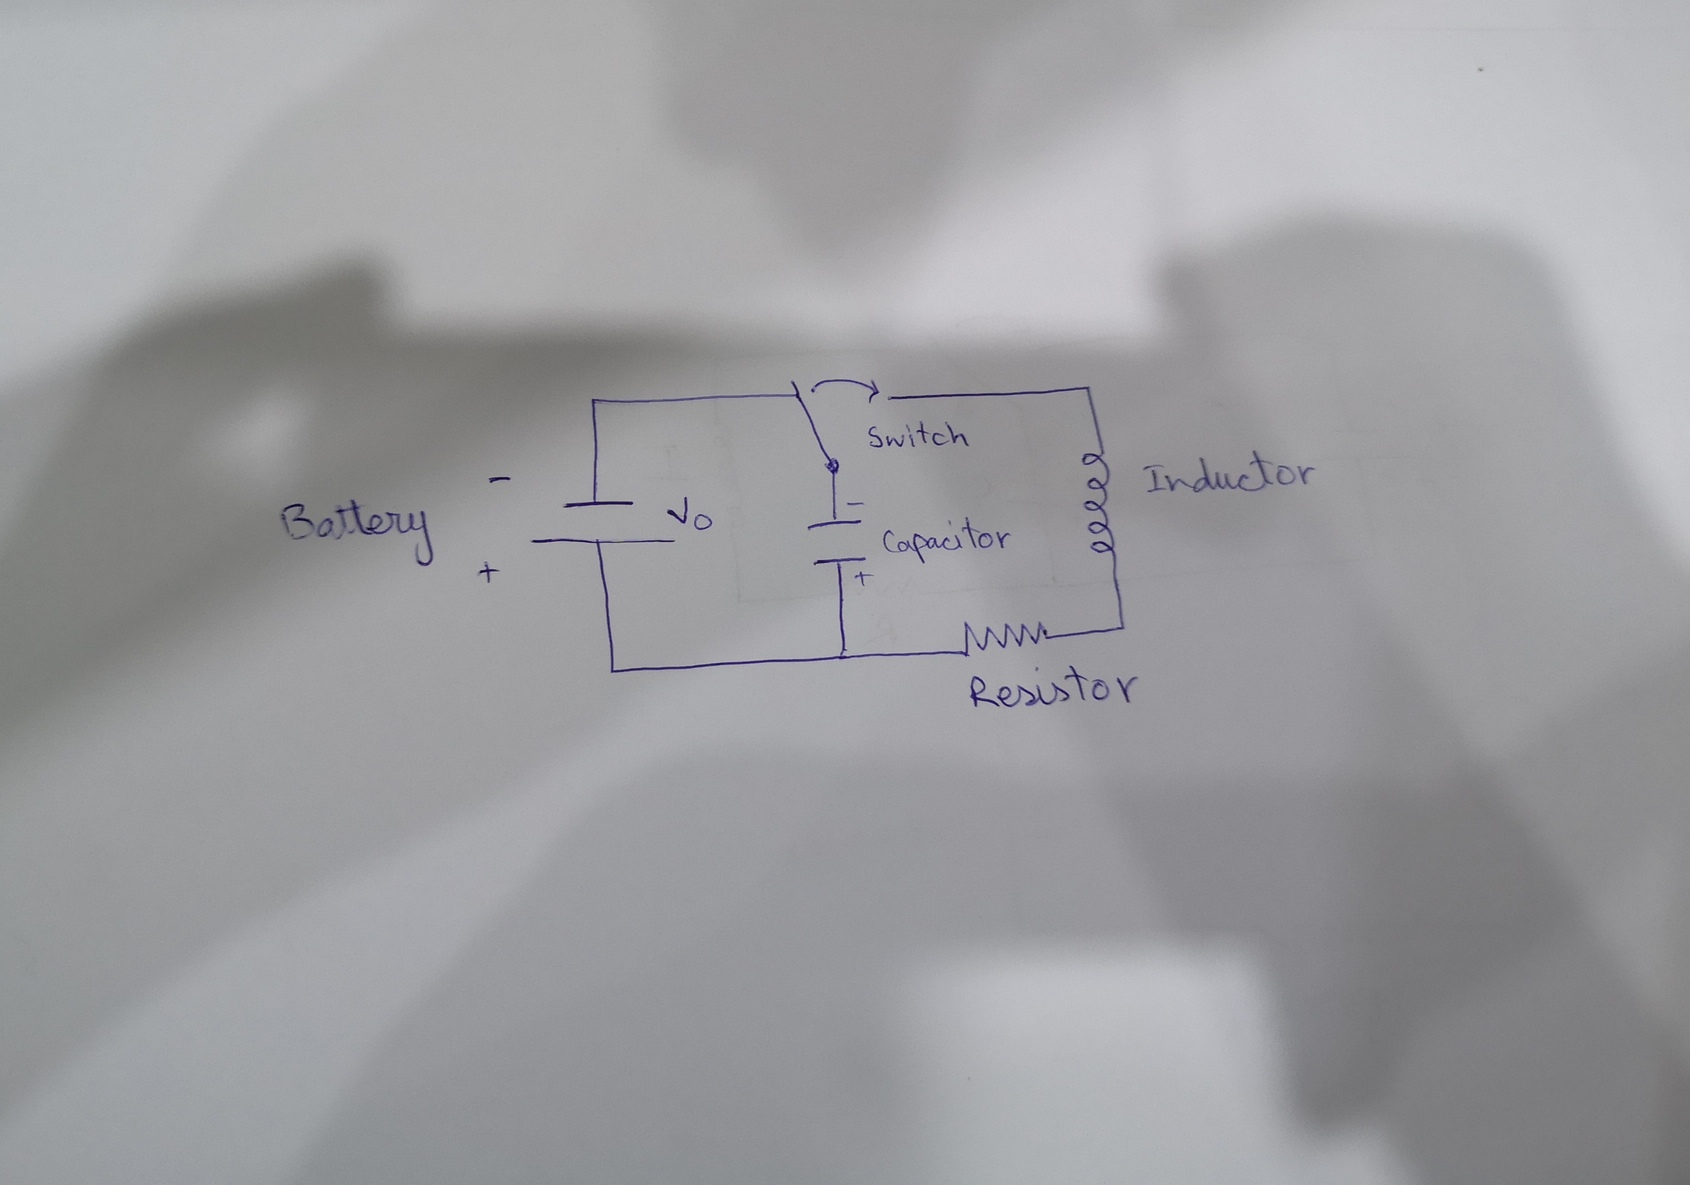capacitor.polarized: (803, 497, 876, 589)
inductor: (1077, 445, 1124, 556)
junction: (832, 646, 854, 666), (1110, 618, 1133, 637), (584, 392, 602, 408), (605, 662, 623, 679), (1079, 380, 1095, 397)
resistor: (957, 618, 1050, 660)
switch: (788, 370, 894, 478)
text: (283, 498, 447, 558), (964, 660, 1144, 713), (878, 512, 1012, 569), (1139, 457, 1320, 492), (863, 415, 971, 452), (666, 496, 714, 532)
voltage.dc: (524, 498, 675, 549)
